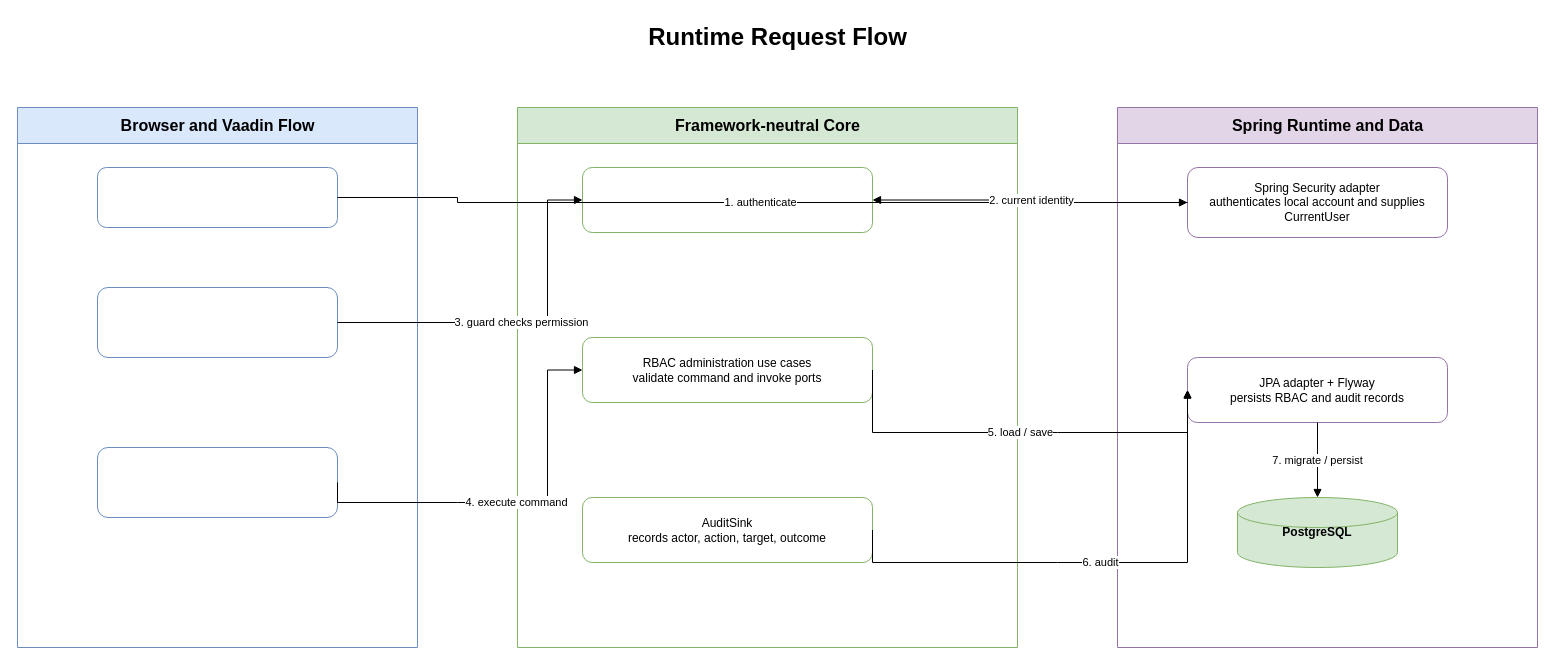
The diagram is 1555 pixels wide and 665 high, and some of its shapes have lost their labels. Each missing label, with the centre of its shape:
AuthorizationService hasPermission(user, resource, action): [727,199]
Flow route and view guard reads navigation and action requirements: [217,322]
Flow view invokes a platform use case only after action-level authorization: [217,482]
User signs in or opens a route: [217,197]
